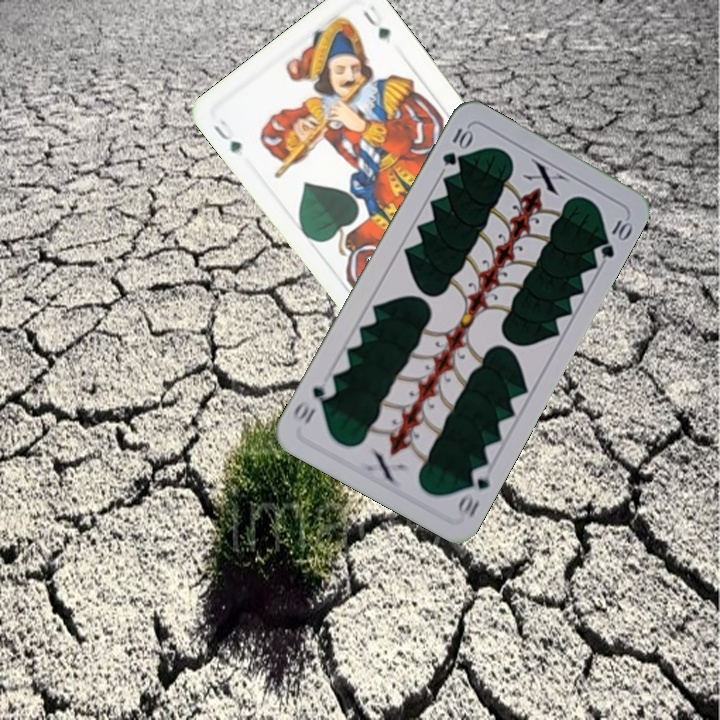G10: (454, 462, 494, 520), (438, 123, 475, 169)
GU: (209, 115, 244, 157)
